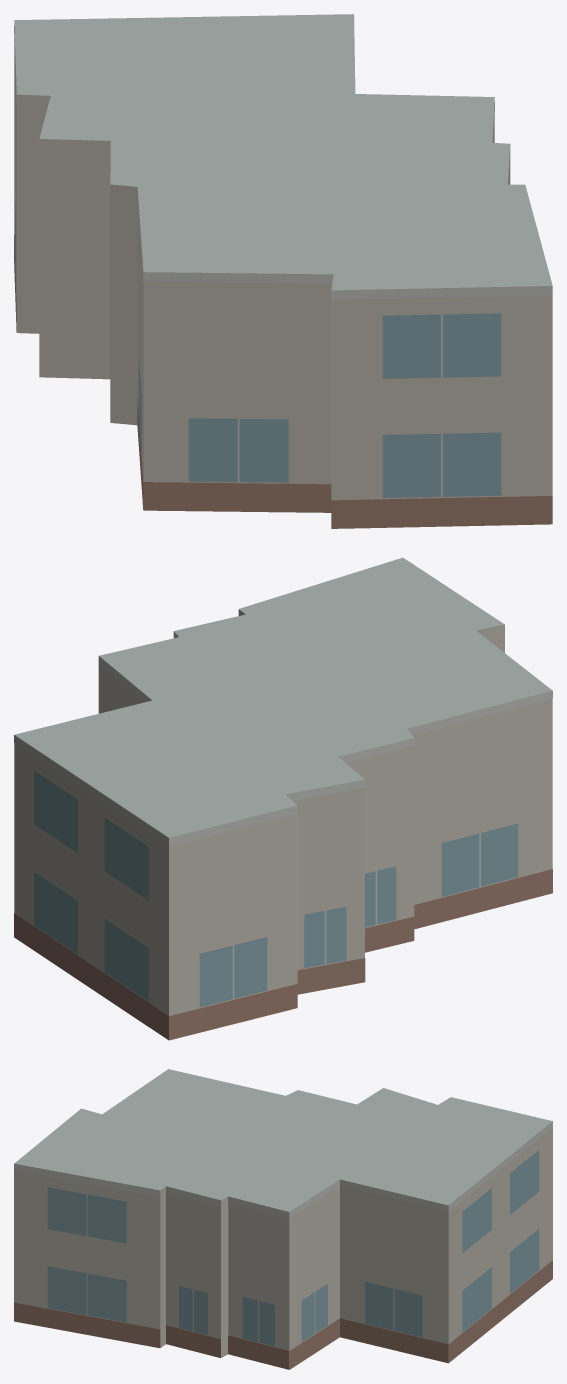
File: survey-upis-32891074.glb
The picture shows the model from 3 angles, top to bottom: view 1: azimuth 30°, elevation 25°; view 2: azimuth 150°, elevation 25°; view 3: azimuth 270°, elevation 25°; orthographic projection. The views are drawn at different scales.
Visible parts, largest first — view 1: survey-upis-32891074.tmp; view 2: survey-upis-32891074.tmp; view 3: survey-upis-32891074.tmp.
Boxes of the visible parts, x1,y1,x2,y2 form: survey-upis-32891074.tmp: (14,14,552,528); survey-upis-32891074.tmp: (14,557,552,1040); survey-upis-32891074.tmp: (14,1069,552,1369).
Bounding box in the file's own units: 11.87 × 6.1 × 18.88.
